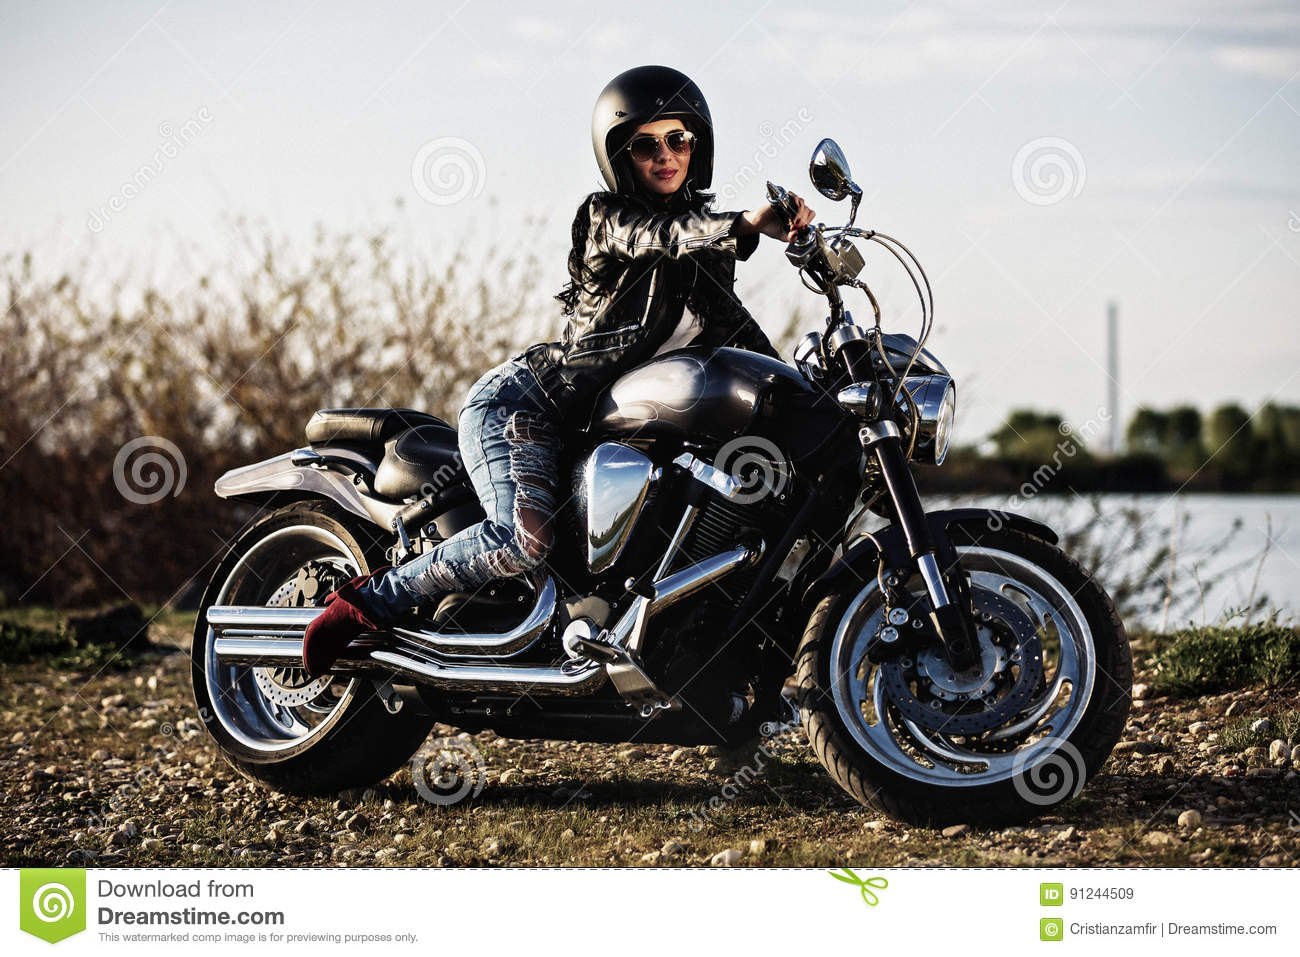helmet: (595, 79, 732, 216)
